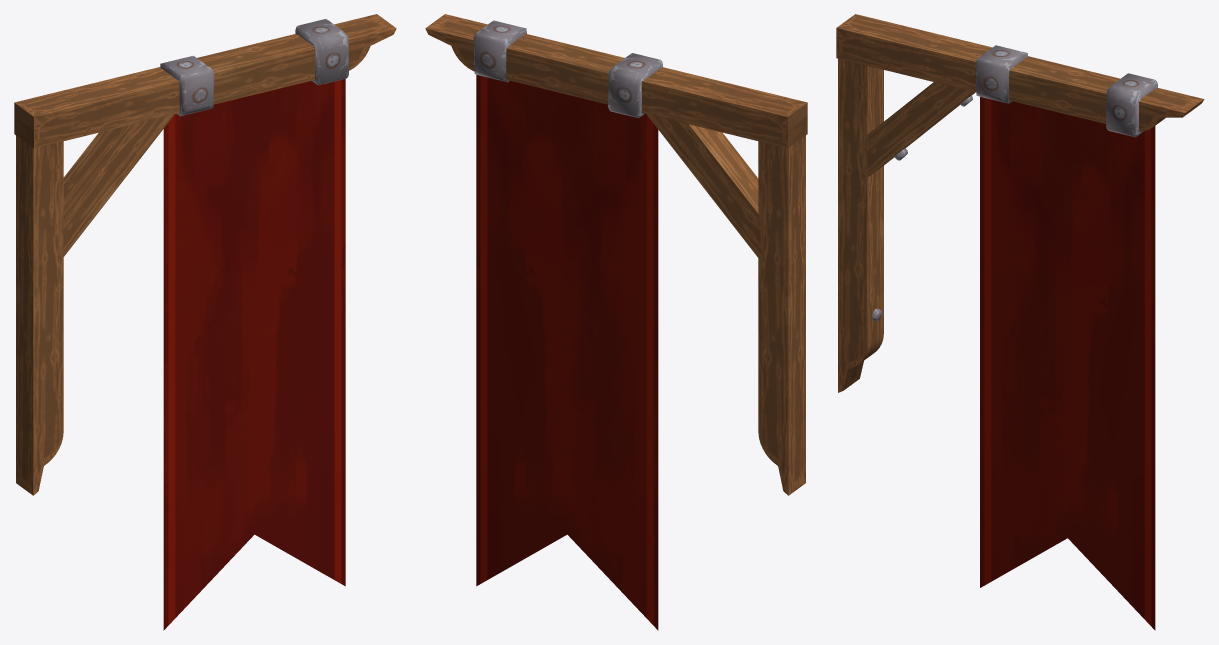
The model's file is banner_1.glb.
3 views of the same model, side by side, from view 1: azimuth 30°, elevation 25°; view 2: azimuth 150°, elevation 25°; view 3: azimuth 330°, elevation 25° (orthographic). The views are drawn at different scales.
Parts seen in each view (by area): view 1: Banner_1; view 2: Banner_1; view 3: Banner_1.
Boxes of the visible parts, x1,y1,x2,y2 form: Banner_1: [14, 14, 396, 630]; Banner_1: [425, 14, 807, 630]; Banner_1: [836, 14, 1204, 630].
Bounding box in the file's own units: 1.61 × 2.39 × 0.1906.
Materials: 3 (3 with a texture image).
